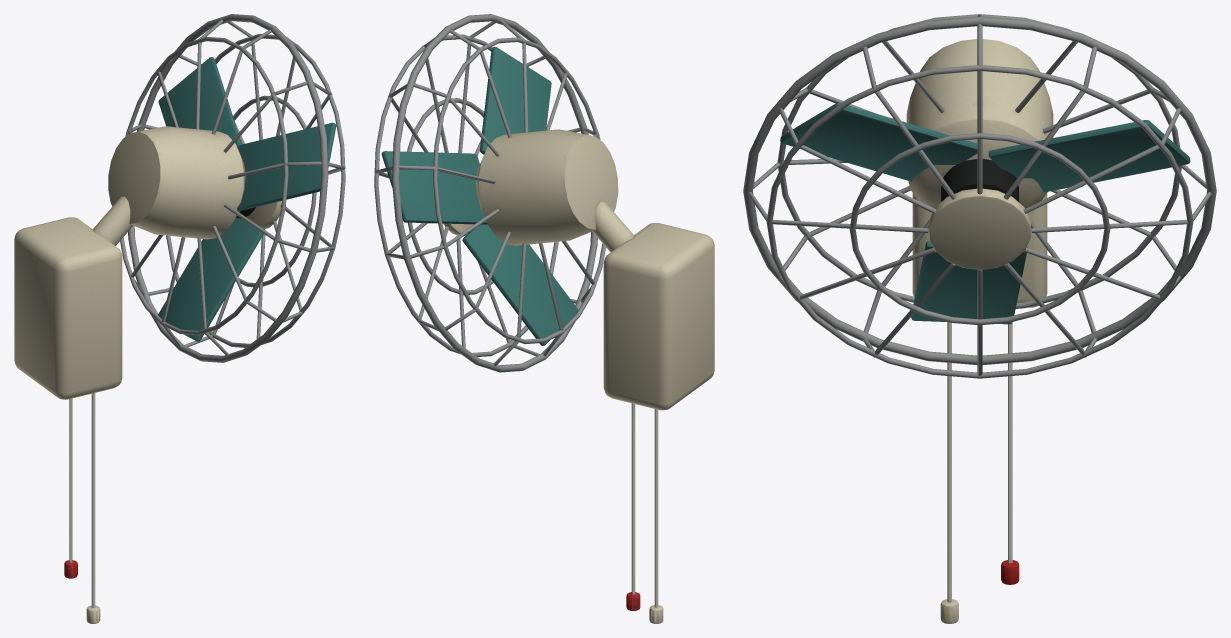
The model's file is CTCC_STAFF_WallOscFan.fbx.
The picture shows the model from 3 angles, left to right: view 1: azimuth 30°, elevation 25°; view 2: azimuth 150°, elevation 25°; view 3: azimuth 270°, elevation 25°; orthographic projection. The views are drawn at different scales.
Visible parts, largest first — view 1: CTCC_STAFF_WallOscFan; view 2: CTCC_STAFF_WallOscFan; view 3: CTCC_STAFF_WallOscFan.
Boxes of the visible parts, x1,y1,x2,y2 form: CTCC_STAFF_WallOscFan: (14,14,345,623); CTCC_STAFF_WallOscFan: (374,14,714,623); CTCC_STAFF_WallOscFan: (743,14,1216,623).
Bounding box in the file's own units: 0.381 × 0.7468 × 0.439.
